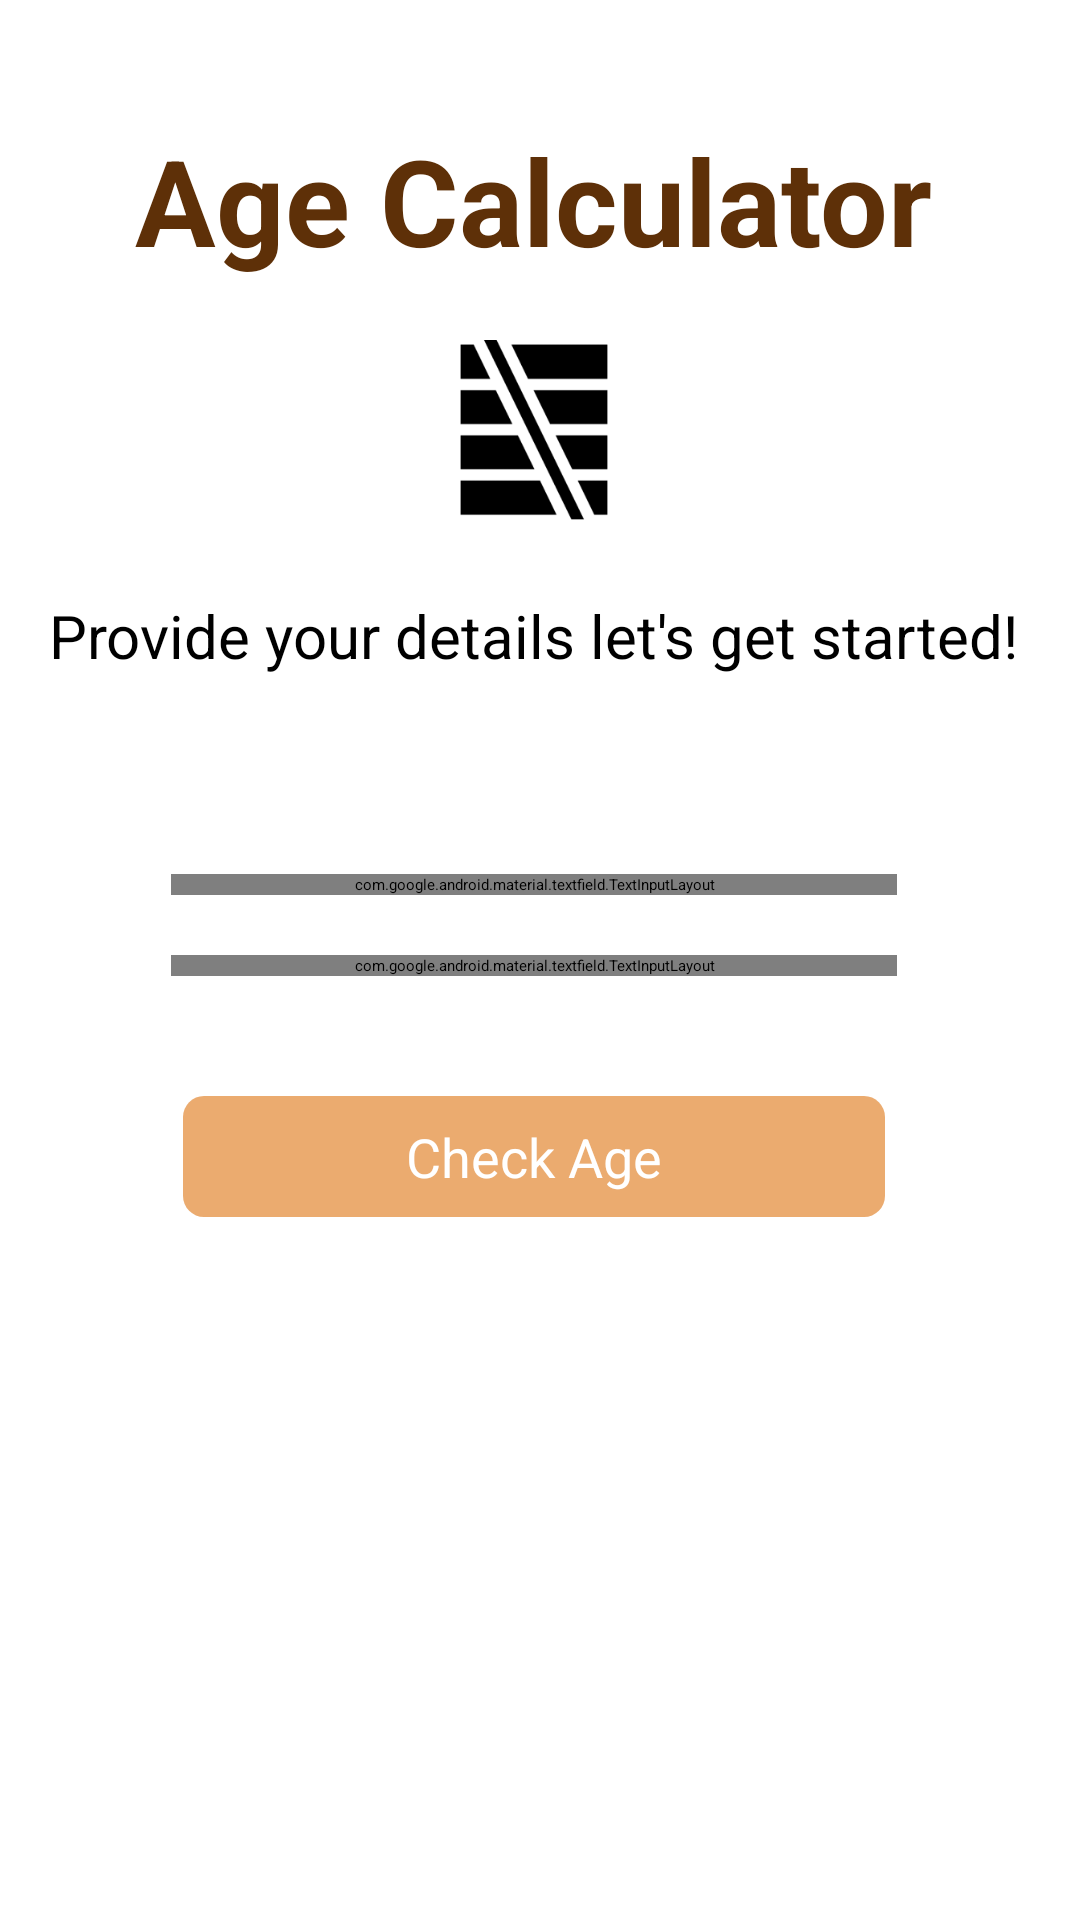

Icons on this 1080x1920 Android screen, each with its box as bbox=(x1, y1, x2, y2):
tally: bbox=(460, 340, 608, 520)
